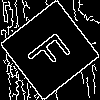F: (25, 25, 79, 77)
